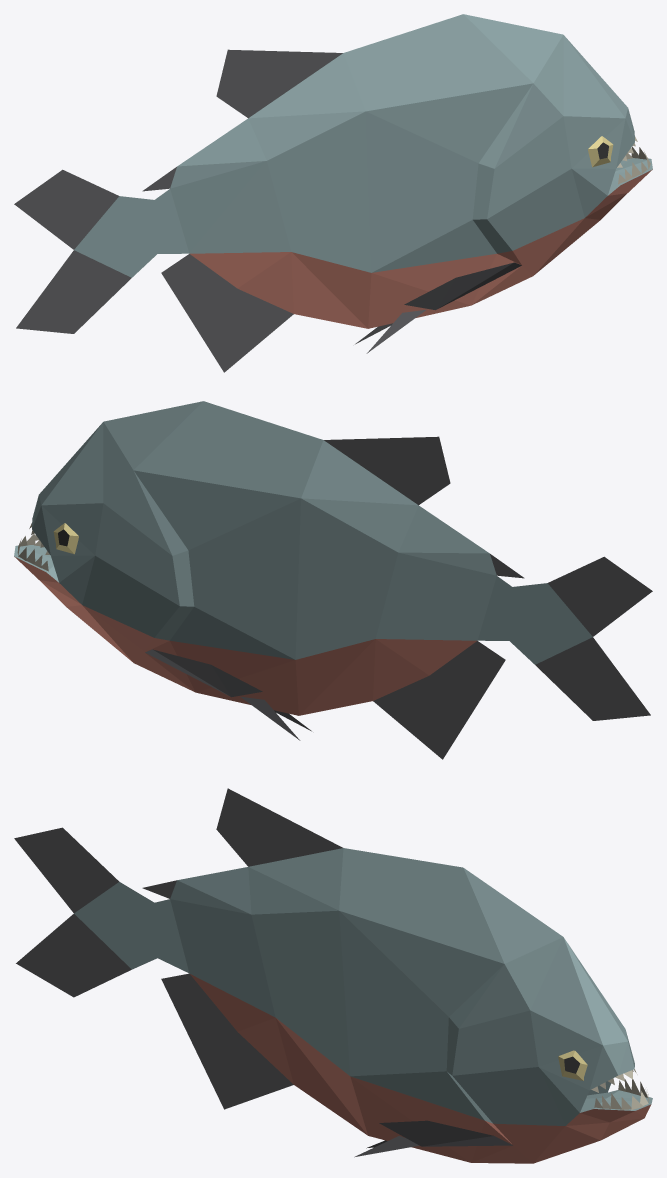
File: Piranha.fbx
The picture shows the model from 3 angles, top to bottom: view 1: azimuth 30°, elevation 25°; view 2: azimuth 150°, elevation 25°; view 3: azimuth 330°, elevation 25°; orthographic projection.
Visible parts, largest first — view 1: Piranha; view 2: Piranha; view 3: Piranha.
Part boxes in pixels (x1,y1,x2,y2): Piranha: [14, 14, 652, 372]; Piranha: [14, 401, 652, 759]; Piranha: [14, 788, 652, 1163].
Bounding box in the file's own units: 2.31 × 1.15 × 0.2239.
